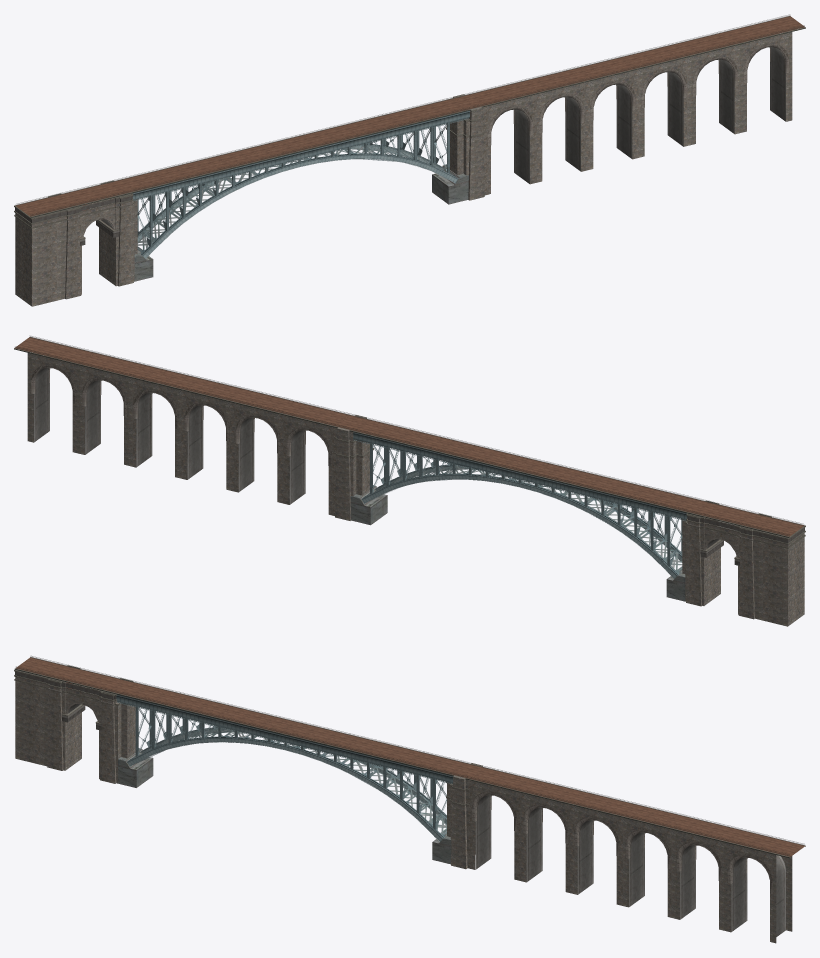
File: nyc_the_high_bridge.glb
3 views of the same model, one above another, from view 1: azimuth 30°, elevation 25°; view 2: azimuth 150°, elevation 25°; view 3: azimuth 330°, elevation 25° (orthographic).
Parts seen in each view (by area): view 1: Object_6, Object_16, Object_10, Object_12, Object_4, Object_14, Object_8, Object_18; view 2: Object_6, Object_16, Object_10, Object_12, Object_4, Object_14, Object_8, Object_18; view 3: Object_6, Object_16, Object_10, Object_4, Object_12, Object_14, Object_8, Object_18.
Part boxes in pixels (x1,y1,x2,y2): Object_6: (15, 32, 792, 306); Object_16: (16, 16, 804, 216); Object_10: (132, 110, 470, 281); Object_12: (15, 14, 804, 254); Object_4: (101, 47, 785, 228); Object_14: (14, 16, 805, 239); Object_8: (82, 44, 789, 237); Object_18: (15, 181, 132, 245); Object_6: (27, 353, 804, 626); Object_16: (14, 337, 804, 536); Object_10: (350, 432, 687, 601); Object_12: (15, 336, 803, 574); Object_4: (34, 368, 719, 548); Object_14: (14, 337, 805, 559); Object_8: (30, 364, 737, 557); Object_18: (687, 501, 804, 565); Object_6: (15, 677, 792, 943); Object_16: (16, 657, 804, 856); Object_10: (116, 694, 452, 864); Object_4: (68, 704, 785, 936); Object_12: (16, 656, 804, 856); Object_14: (14, 657, 805, 858); Object_8: (65, 702, 772, 893); Object_18: (15, 667, 130, 730).
Size of the model in its own units: 2026 by 229 by 90.19.
8 materials, 8 textured.
